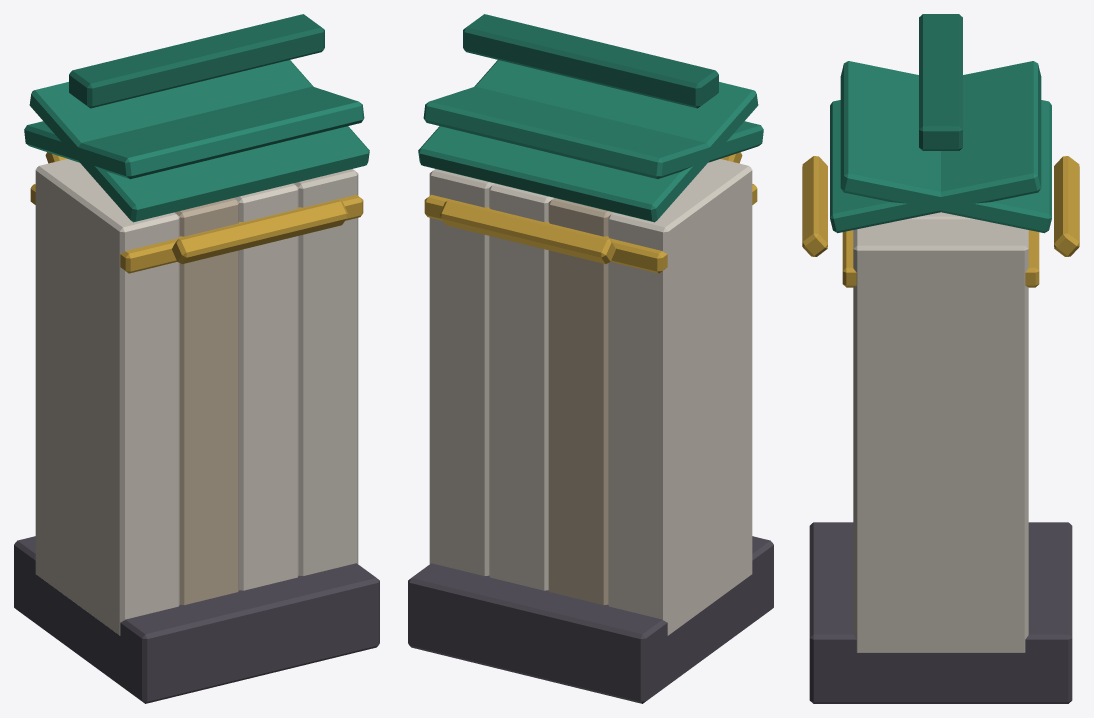
File: asian-wall.glb
3 renders of one model, left to right at view 1: azimuth 30°, elevation 25°; view 2: azimuth 150°, elevation 25°; view 3: azimuth 270°, elevation 25°, orthographic.
Parts seen in each view (by area): view 1: body; view 2: body; view 3: body.
Part boxes in pixels (x1,y1,x2,y2): body: (14,14,379,703); body: (408,14,773,703); body: (802,14,1079,703).
Bounding box in the file's own units: 1 × 2.33 × 1.01.
